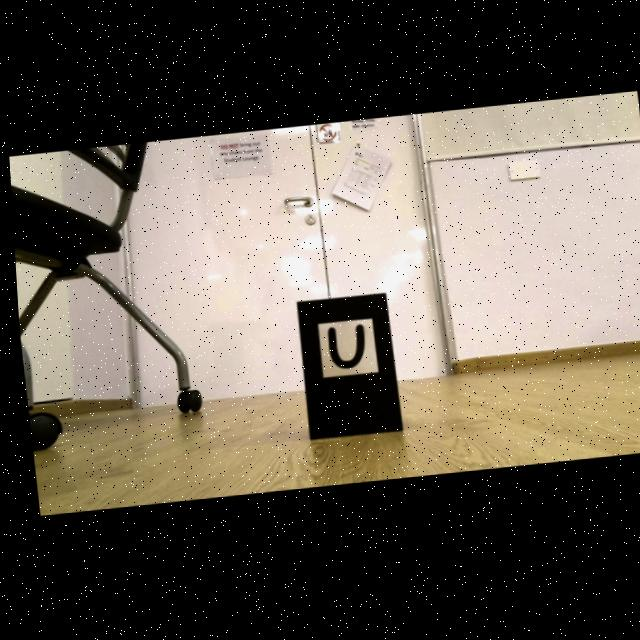U: (324, 327, 362, 372)
